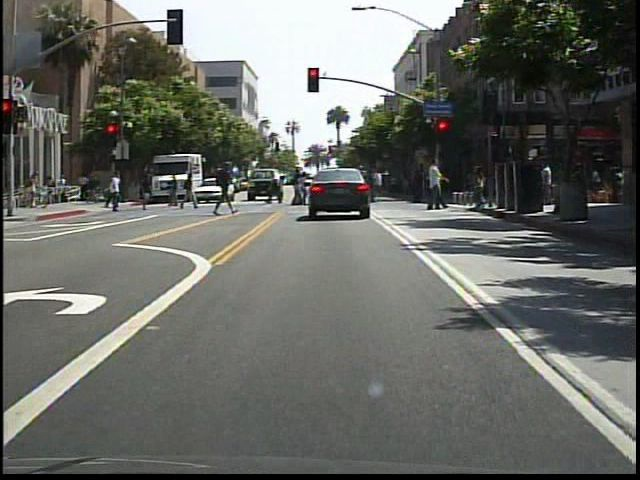person: (421, 157, 452, 213), (210, 161, 238, 218), (336, 167, 359, 216), (180, 170, 201, 212), (108, 170, 127, 216), (166, 171, 182, 211), (259, 170, 276, 207)
